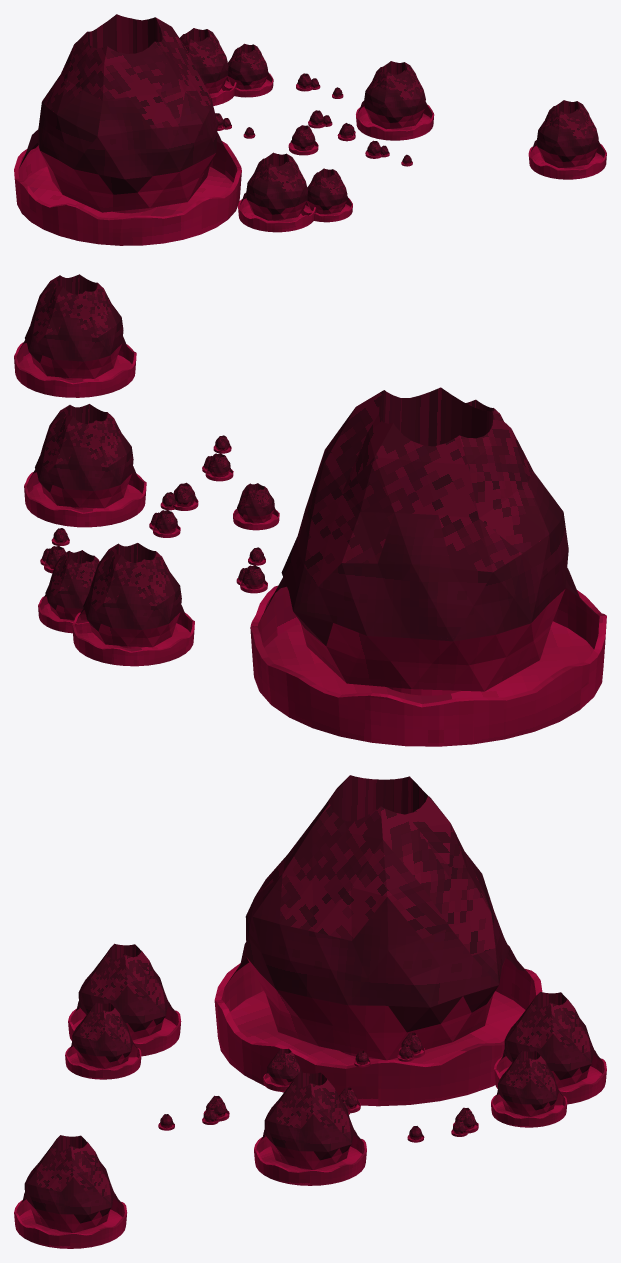
File: BackgroundRocks_firepit.glb
3 renders of one model, top to bottom at view 1: azimuth 30°, elevation 25°; view 2: azimuth 150°, elevation 25°; view 3: azimuth 270°, elevation 25°, orthographic. The views are drawn at different scales.
Visible parts, largest first — view 1: BackgroundRocks; view 2: BackgroundRocks; view 3: BackgroundRocks.
Boxes of the visible parts, box(x1,y1,x2,y2) form: BackgroundRocks: box(14, 14, 606, 245); BackgroundRocks: box(14, 274, 606, 746); BackgroundRocks: box(14, 775, 606, 1248).
Size of the model in its own units: 4037 by 1445 by 3088.
3 materials, 3 textured.
